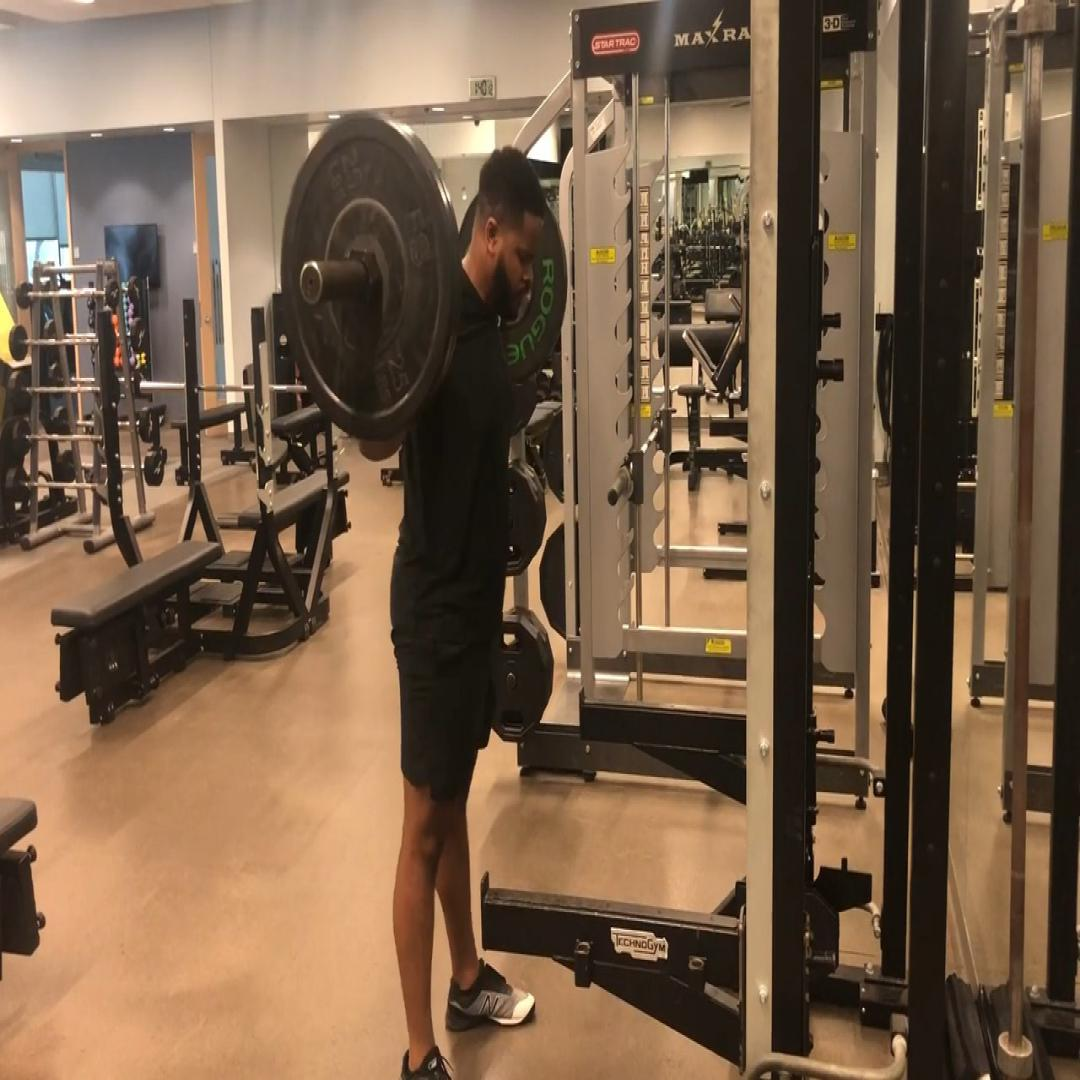Bar: (299, 260, 323, 306)
Barbell: (281, 111, 453, 443)
